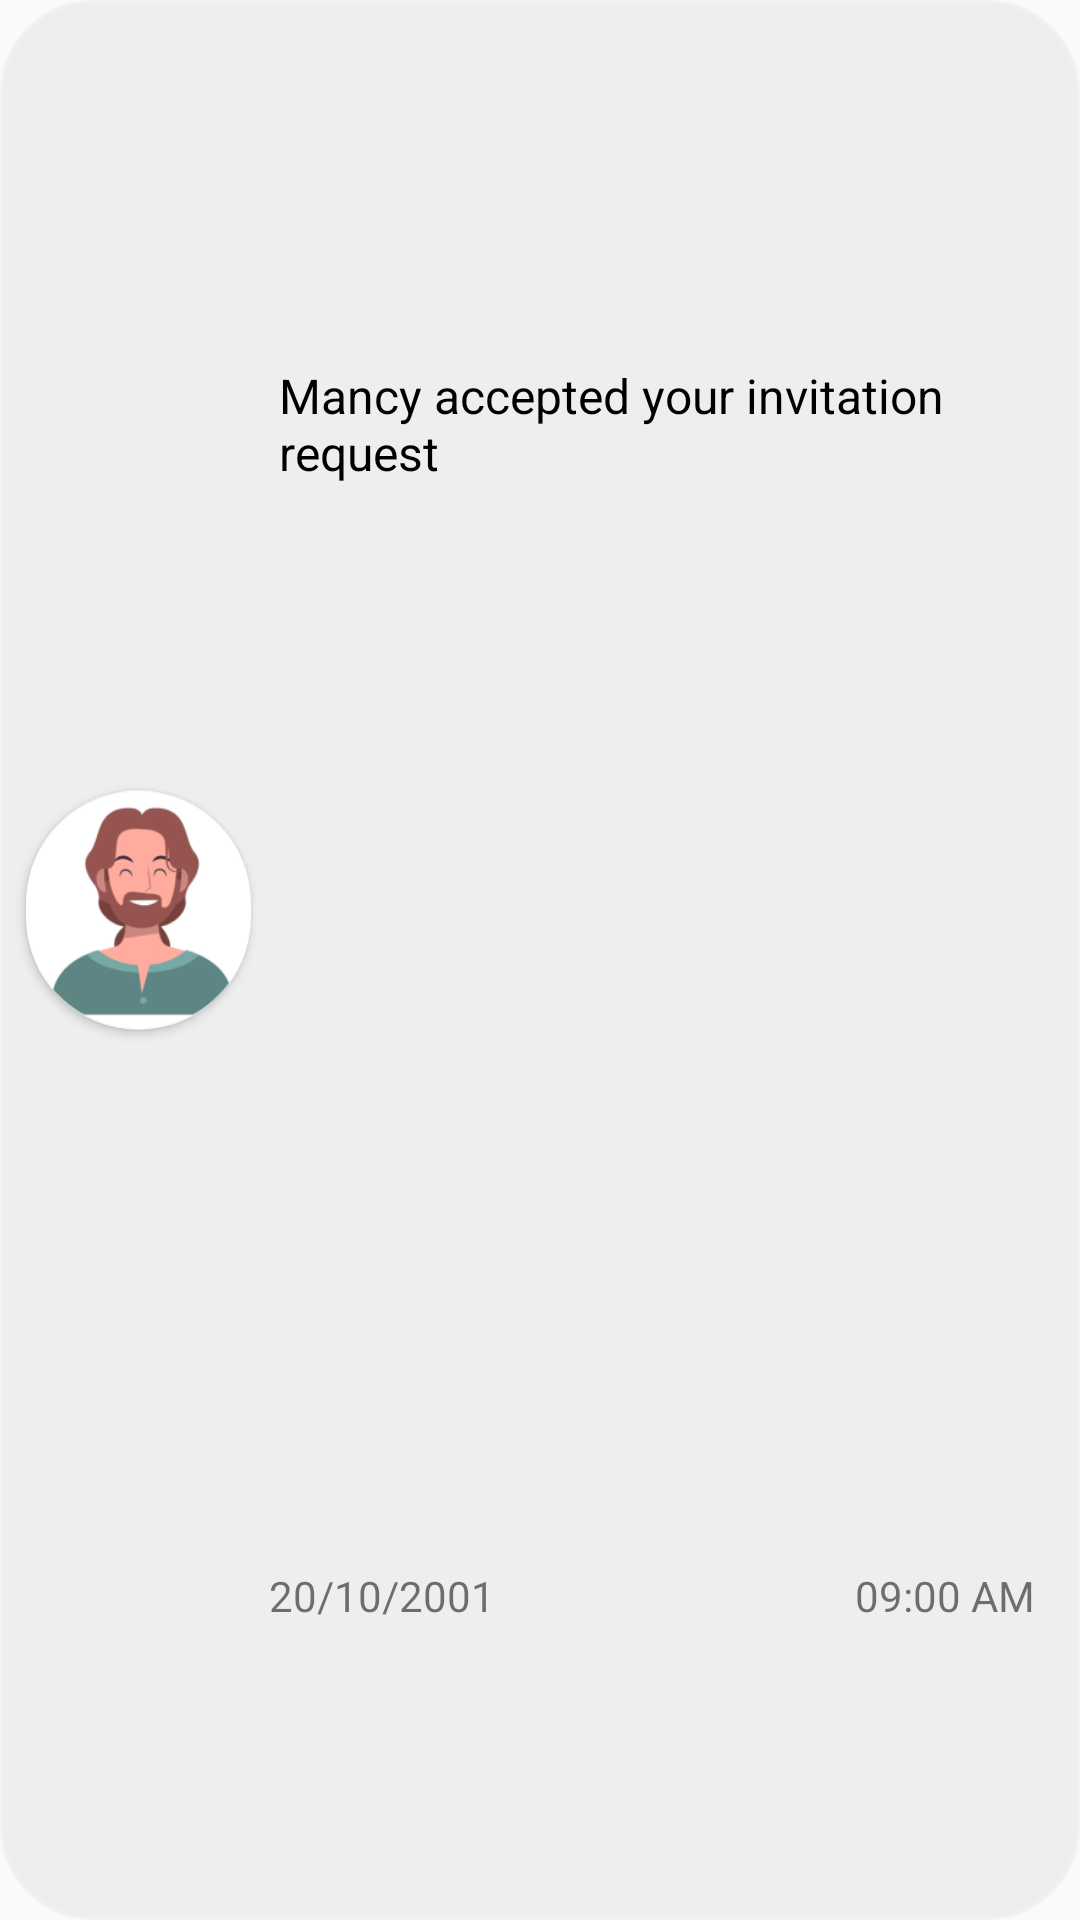

Named icons in this screenshot (1080 × 1920) and their bounding boxes, (x1, y1, x2, y2):
user: (26, 790, 251, 1030)
